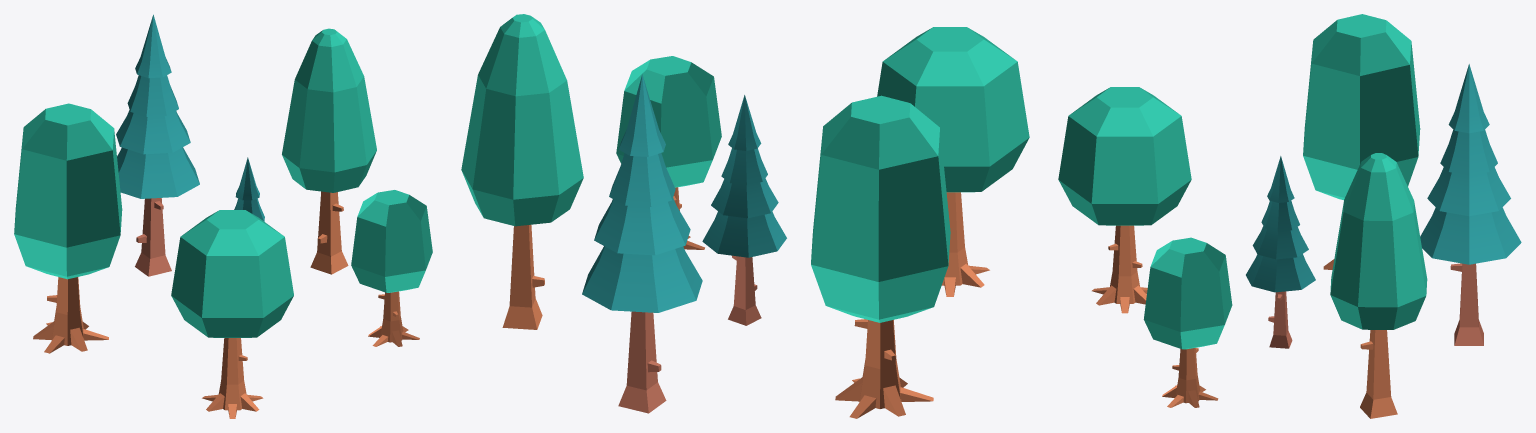
The model's file is treegroup.fbx.
The picture shows the model from 3 angles, left to right: view 1: azimuth 30°, elevation 25°; view 2: azimuth 150°, elevation 25°; view 3: azimuth 270°, elevation 25°; orthographic projection. The views are drawn at different scales.
Parts seen in each view (by area): view 1: tree01; view 2: tree01; view 3: tree01.
Boxes of the visible parts, <box> form: tree01: <box>14,14,432,418</box>; tree01: <box>461,14,1029,418</box>; tree01: <box>1058,14,1521,418</box>.
Bounding box in the file's own units: 732 × 494 × 750.
